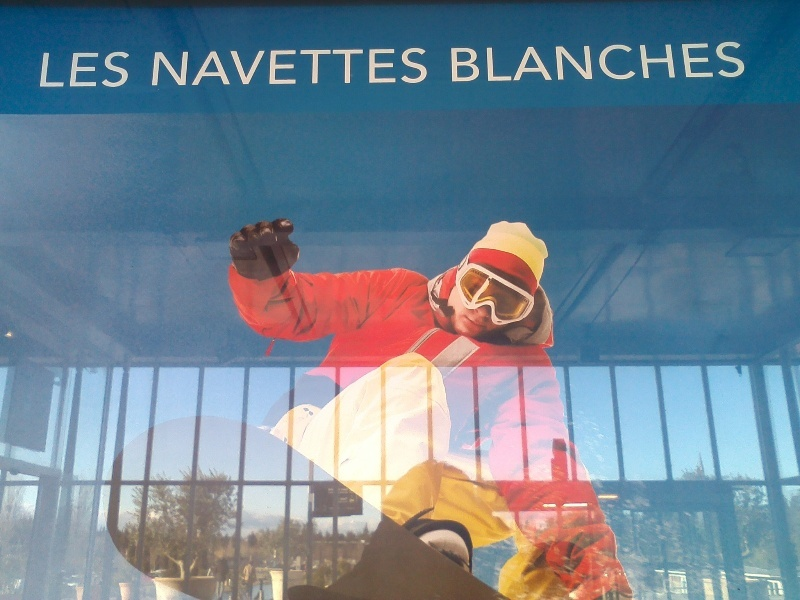text: (465, 41, 480, 83), (481, 41, 496, 83), (497, 41, 512, 83), (513, 41, 528, 83), (529, 41, 544, 83), (545, 41, 560, 83), (561, 41, 576, 83), (577, 41, 592, 83), (593, 41, 608, 83), (609, 41, 624, 83), (625, 41, 640, 83), (641, 41, 656, 83), (657, 41, 672, 83), (673, 41, 688, 83), (689, 41, 704, 83), (705, 41, 720, 83), (721, 41, 736, 83), (161, 47, 176, 86), (177, 47, 192, 86), (193, 47, 208, 86), (209, 47, 224, 86), (225, 47, 240, 86), (241, 47, 256, 86), (257, 47, 272, 86), (273, 47, 288, 86), (289, 47, 304, 86), (305, 47, 320, 86), (321, 47, 336, 86), (337, 47, 352, 86), (353, 47, 368, 86), (369, 47, 384, 86), (385, 47, 400, 86), (401, 47, 416, 86), (49, 51, 64, 88), (65, 51, 80, 88), (81, 51, 96, 88), (97, 51, 112, 88), (113, 51, 128, 88), (451, 41, 464, 83), (417, 47, 429, 86), (737, 41, 746, 83), (155, 47, 160, 86), (44, 51, 48, 88), (129, 51, 131, 88)
